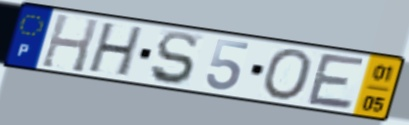5: (204, 37, 252, 92)
E: (304, 51, 369, 112)
H: (38, 12, 102, 75), (85, 21, 147, 79)
O: (259, 48, 314, 103)
S: (148, 30, 200, 88)
